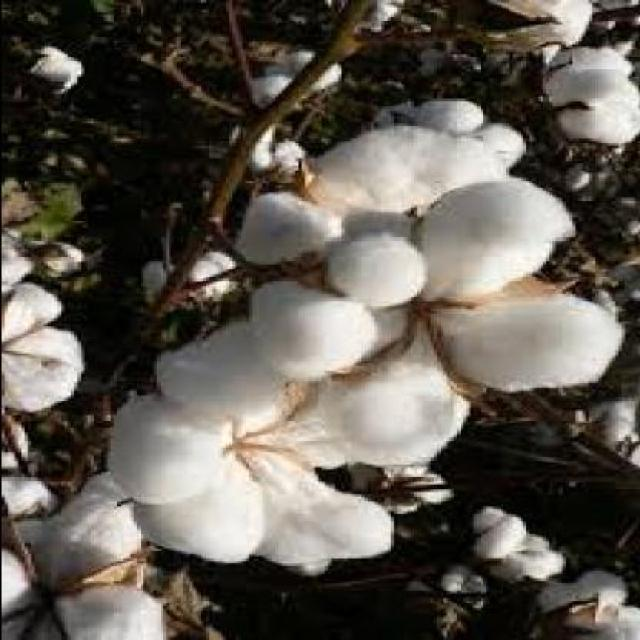cotton_ready: (106, 323, 446, 591), (254, 190, 614, 422), (300, 91, 512, 222)
